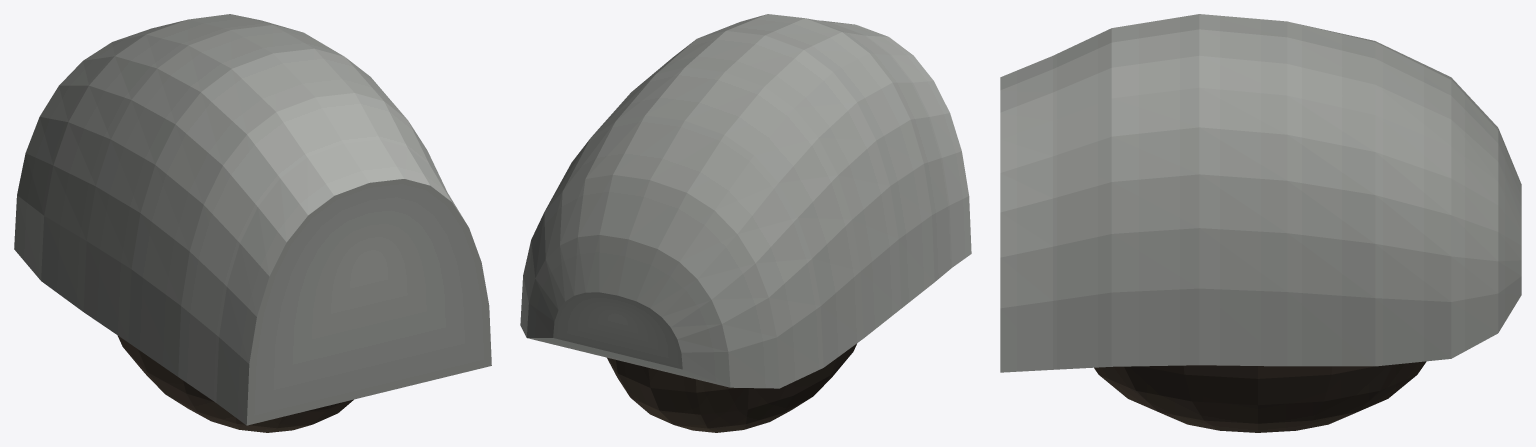
Rendered from streetlight_geform109.obj.
3 views of the same model, side by side, from view 1: azimuth 30°, elevation 25°; view 2: azimuth 150°, elevation 25°; view 3: azimuth 270°, elevation 25° (orthographic). The views are drawn at different scales.
Parts seen in each view (by area): view 1: fixture; view 2: fixture; view 3: fixture.
Part boxes in pixels (bbox=[...]): fixture: bbox=[14, 14, 491, 432]; fixture: bbox=[520, 14, 971, 432]; fixture: bbox=[1000, 14, 1521, 432].
Size of the model in its own units: 0.375 by 0.4625 by 0.5562.
